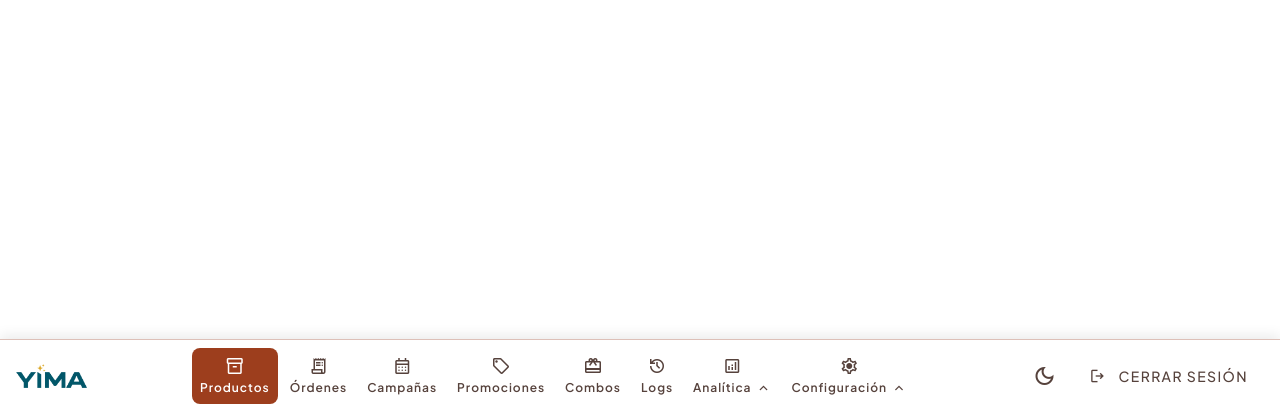
Test: AdminSidebar › abrir un dropdown de escritorio cierra el otro si estaba abierto
The image size is (1280, 412).
What coordinates should you click on to do the following:
click the button "Configuración"
I would click on:
 (849, 376)
Its box is left=784, top=348, right=915, bottom=404.
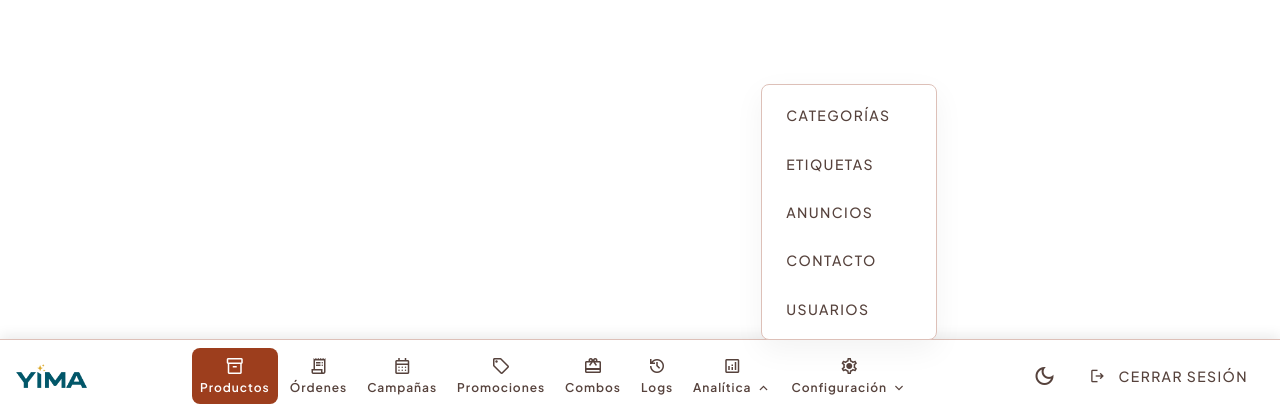
What coordinates should you click on to do the following:
click the button "Analítica"
I would click on:
 (732, 376)
Its box is left=685, top=348, right=780, bottom=404.
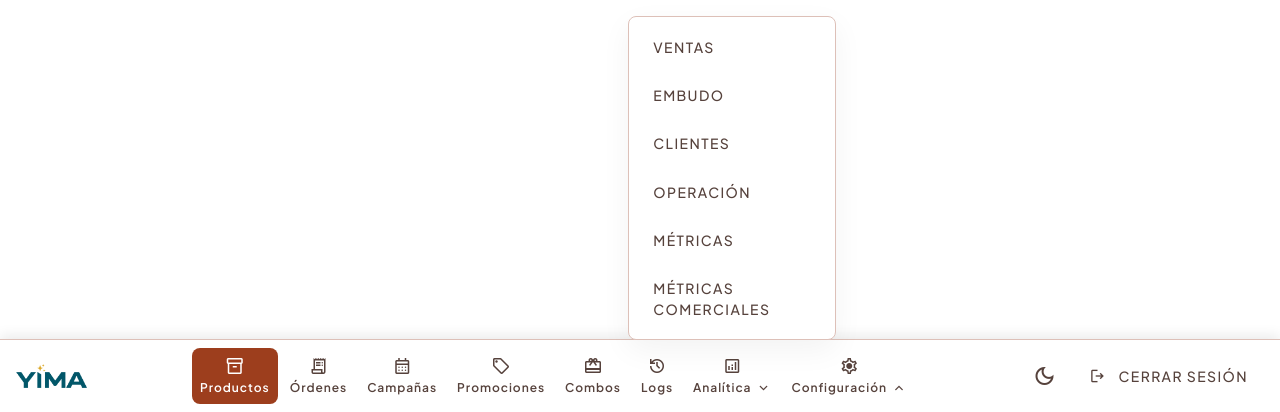
Check: the button "Analítica" is expanded, box left=685, top=348, right=780, bottom=404
